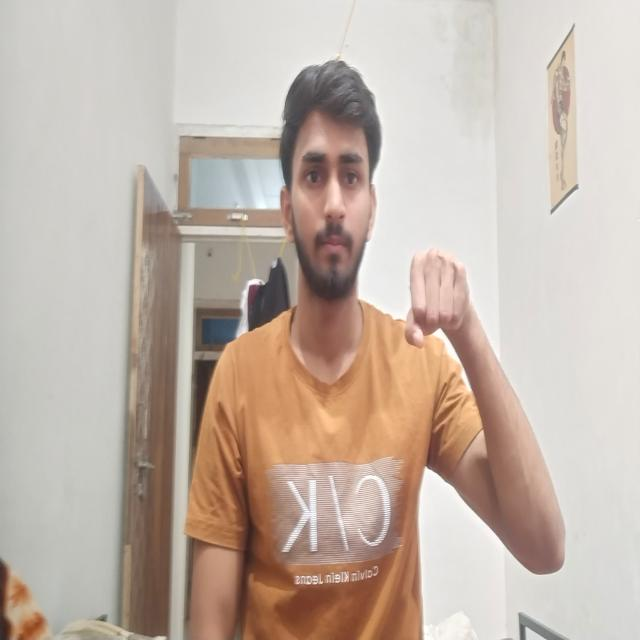yes: (380, 230, 502, 373)
